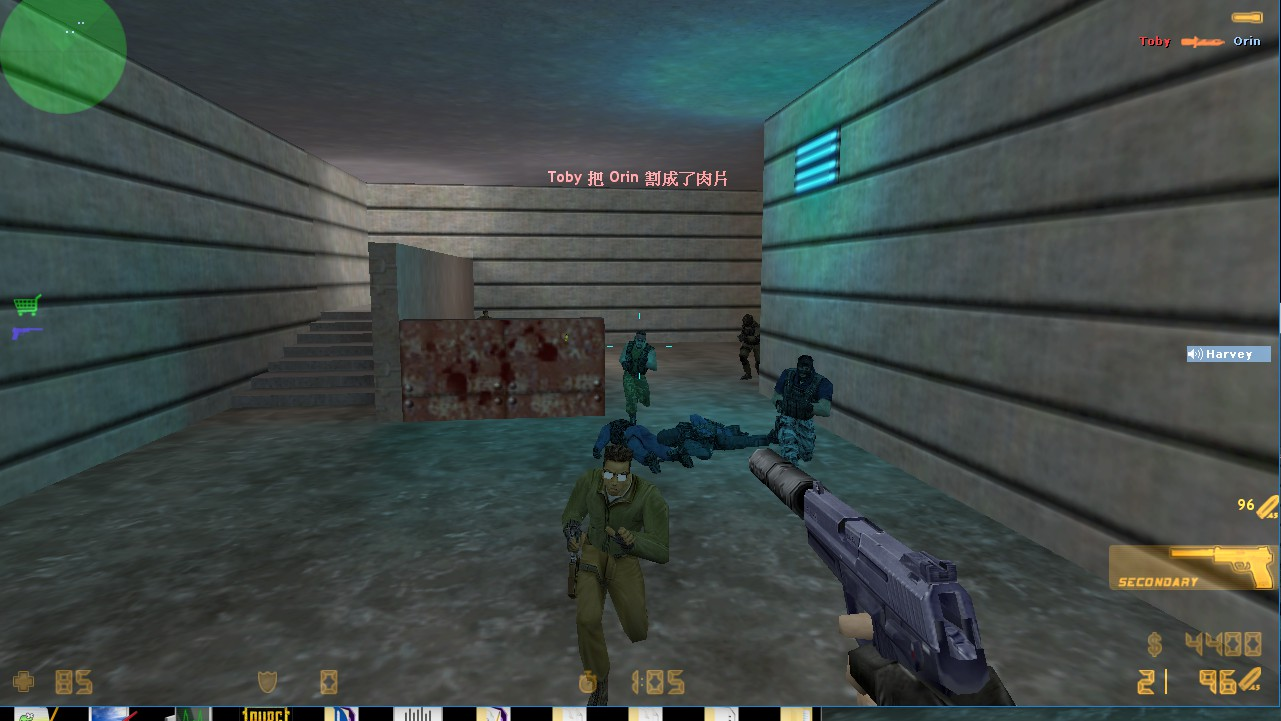person: (555, 439, 679, 700), (769, 355, 837, 468), (611, 322, 660, 424), (735, 313, 759, 382)
